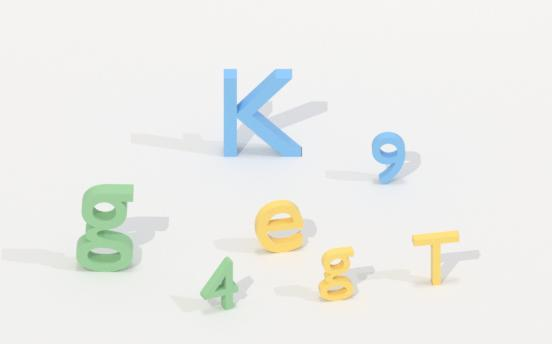4: (195, 253, 245, 311)
9: (370, 130, 412, 185)
e: (252, 199, 307, 255)
g: (73, 184, 139, 275), (317, 244, 360, 302)
k: (218, 63, 304, 160)
t-hoa: (408, 227, 461, 287)
